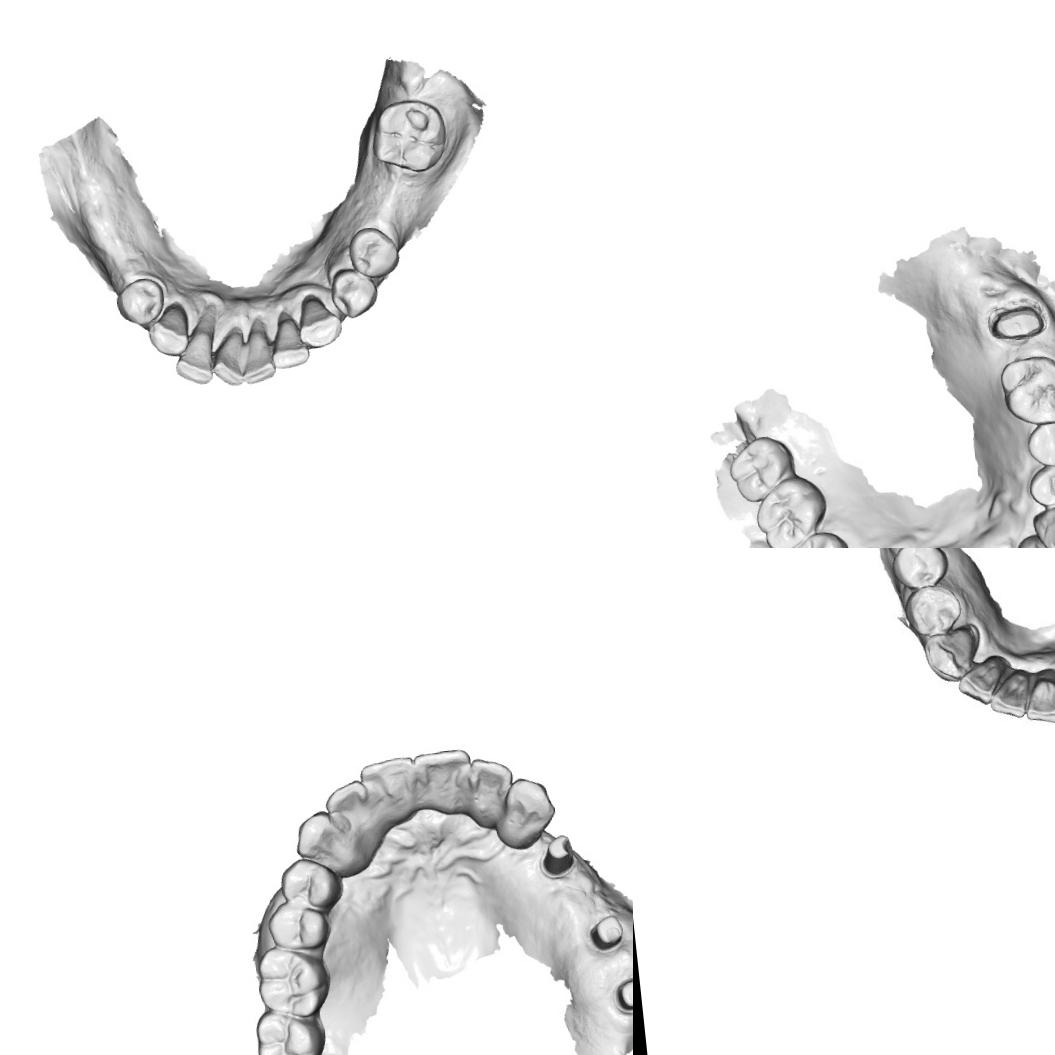abutment: (537, 832, 579, 880), (586, 912, 626, 953), (614, 974, 633, 1013)
canine: (492, 774, 560, 852), (917, 627, 980, 684), (291, 808, 350, 866), (294, 291, 344, 350), (143, 302, 192, 360), (1029, 504, 1055, 548)
crown: (986, 300, 1049, 346)
incisor: (410, 746, 478, 820), (358, 754, 424, 823), (170, 311, 222, 388), (466, 754, 518, 828), (321, 777, 374, 844), (235, 315, 278, 387), (266, 308, 312, 370), (207, 326, 250, 389), (958, 658, 1008, 706), (993, 668, 1033, 716), (1023, 672, 1055, 720), (1015, 528, 1055, 548)
molar: (365, 87, 458, 178), (252, 940, 334, 1023), (747, 469, 833, 548), (724, 432, 800, 506), (995, 349, 1055, 430), (251, 1003, 329, 1055)
premolar: (276, 854, 344, 914), (264, 898, 332, 954), (346, 224, 402, 282), (906, 583, 962, 640), (327, 264, 381, 322), (113, 274, 168, 328), (891, 548, 951, 589), (1022, 417, 1055, 470), (1025, 460, 1055, 511), (787, 526, 854, 548)
